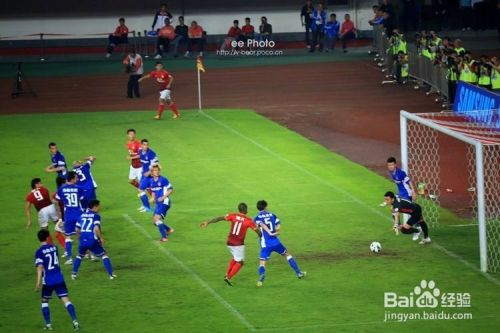football: (369, 241, 381, 254)
